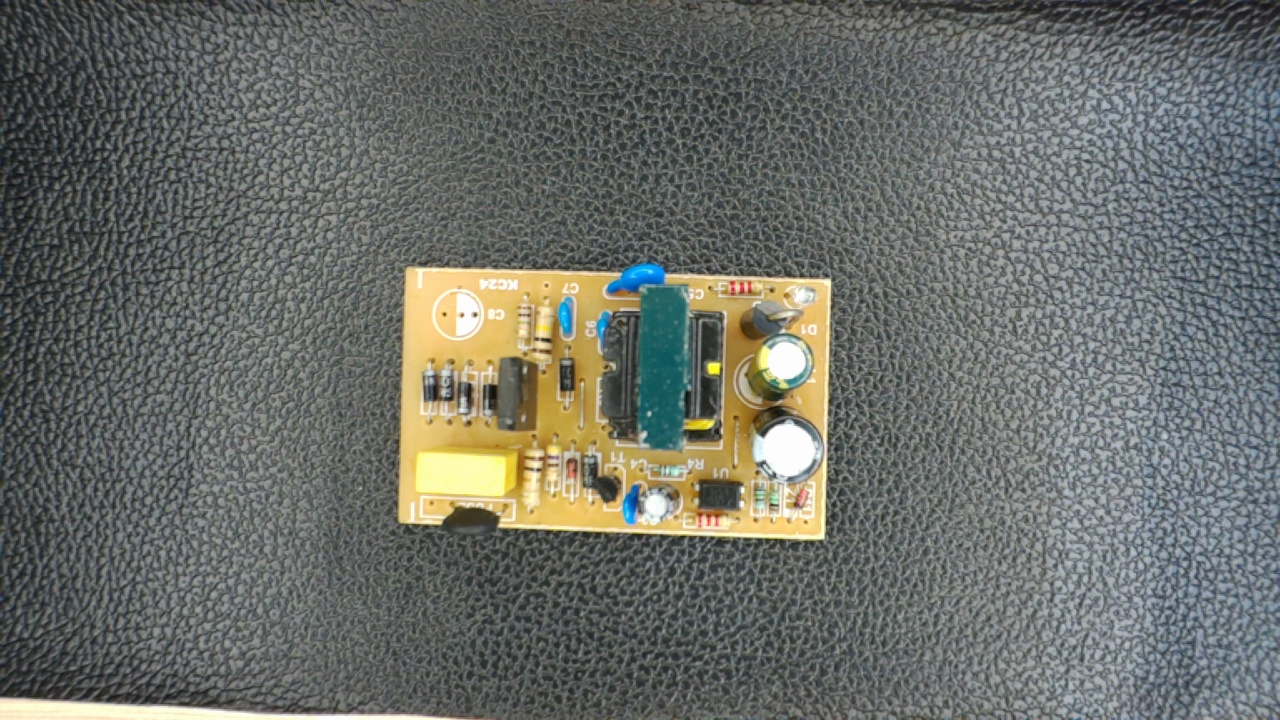fuse: (428, 495, 512, 537)
mov: (602, 263, 669, 297)
optocoupler: (687, 473, 749, 518)
